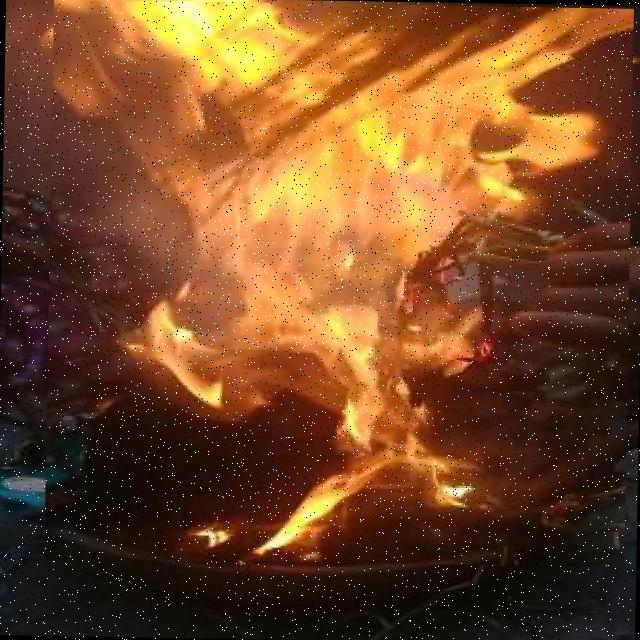fire: (43, 0, 633, 567)
